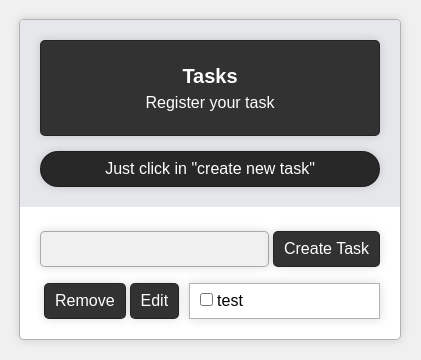
Pages - Task Page › removes task when clicking Remove button
Expected: the text "test" is shown, [217, 292, 243, 309]
Click the button "Remove" at coordinates (85, 301), box [44, 283, 126, 319]
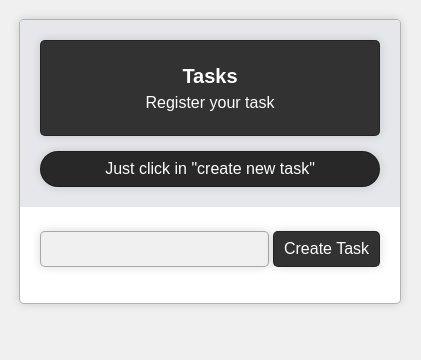
Now the text "test" is gone
Now the button "Remove" is gone
